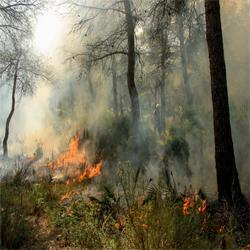fire: (57, 140, 79, 165), (89, 161, 106, 176)
